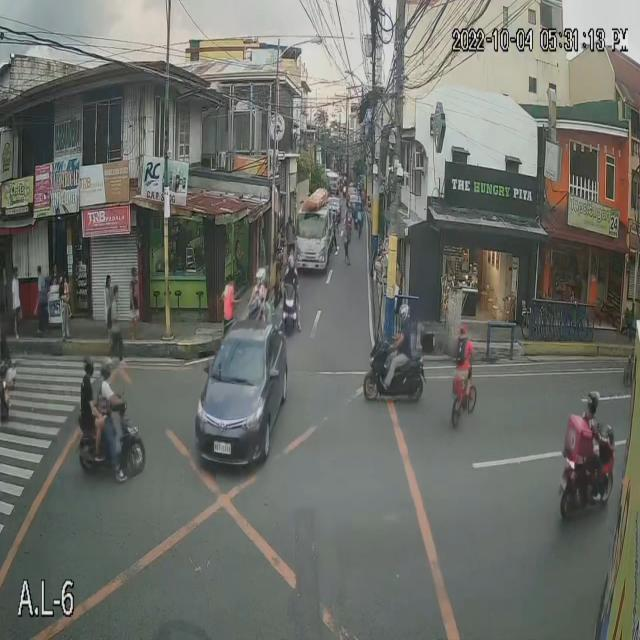Full-Faced: (584, 390, 604, 414), (399, 298, 410, 333), (82, 354, 96, 377), (283, 254, 299, 273), (256, 264, 266, 294), (99, 358, 113, 375), (346, 212, 354, 222)
